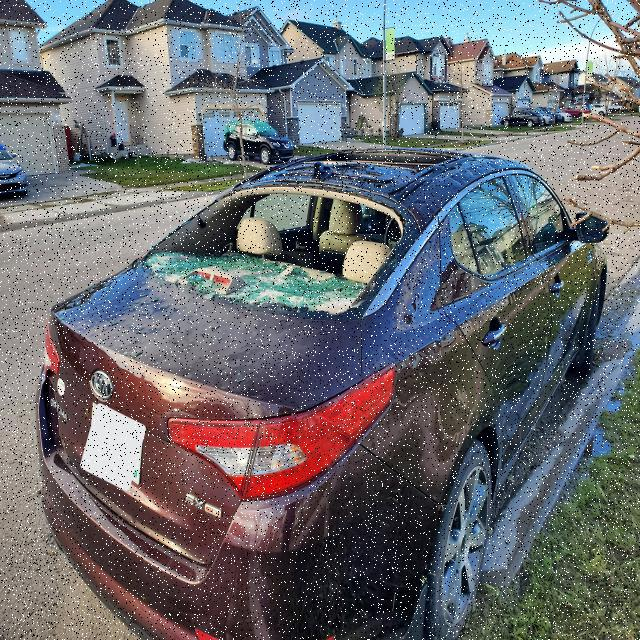Rear-windscreen-Damage: (145, 173, 430, 308)
